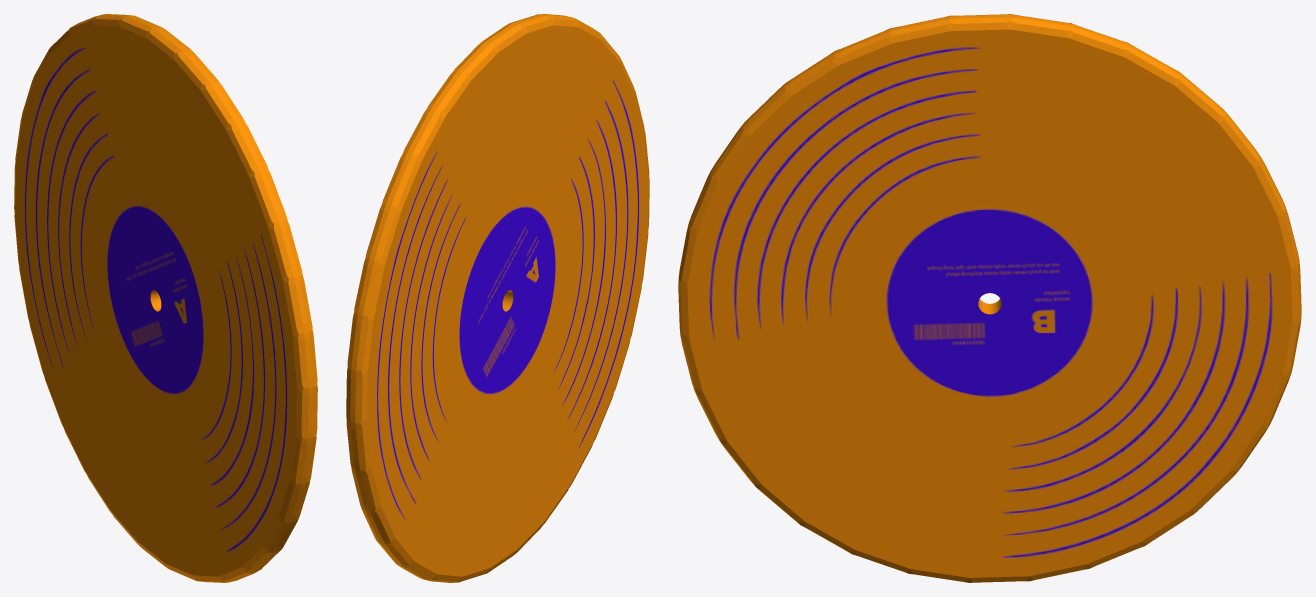
File: Vinyl.glb
3 views of the same model, side by side, from view 1: azimuth 30°, elevation 25°; view 2: azimuth 150°, elevation 25°; view 3: azimuth 270°, elevation 25° (orthographic). The views are drawn at different scales.
Visible parts, largest first — view 1: Cylinder.001; view 2: Cylinder.001; view 3: Cylinder.001.
Part boxes in pixels (x1,y1,x2,y2): Cylinder.001: [14, 14, 317, 582]; Cylinder.001: [346, 14, 649, 582]; Cylinder.001: [678, 14, 1301, 582].
Bounding box in the file's own units: 0.0503 × 1.27 × 1.27.
1 material, 1 textured.
